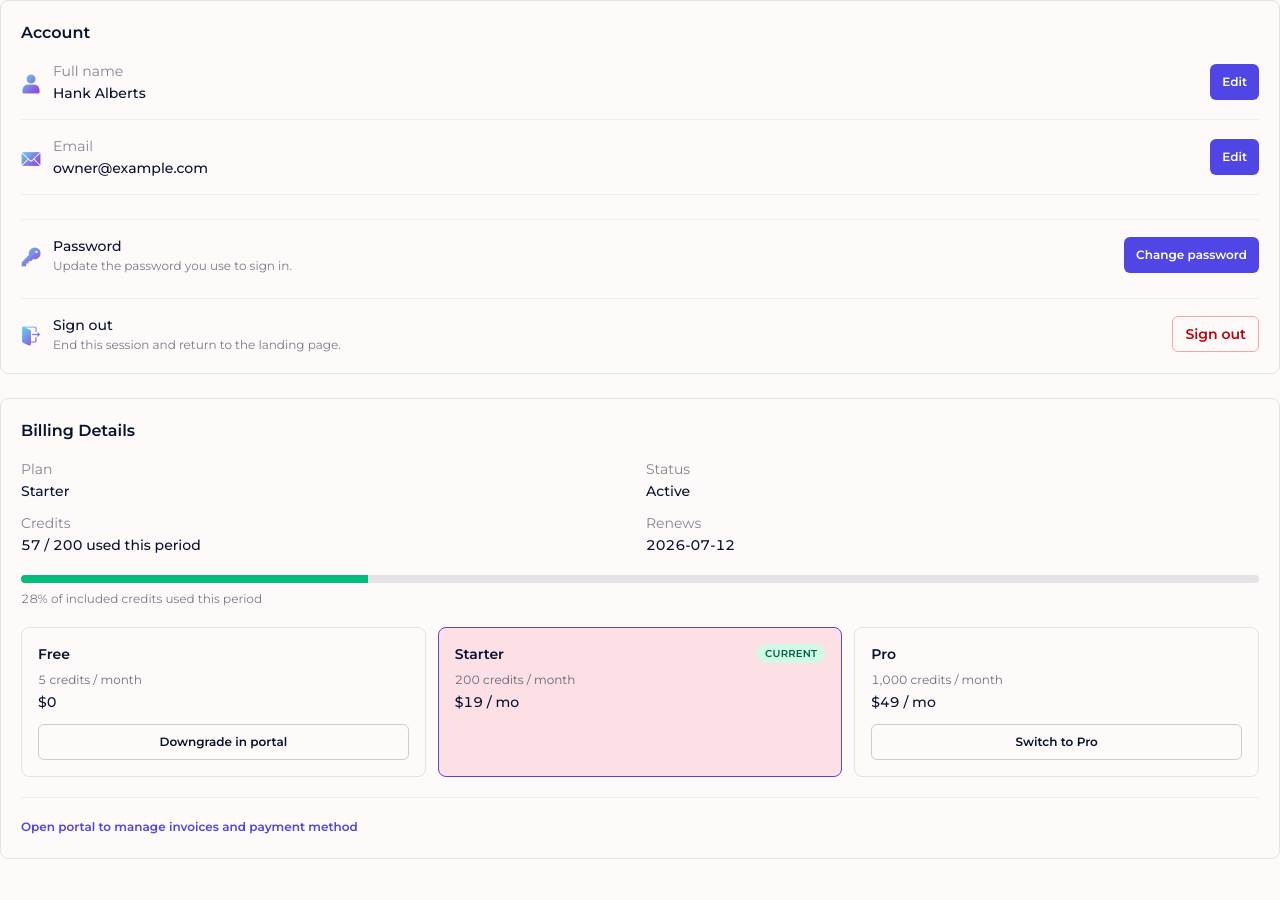
AccountForm — editable full name › reverts to the original value on Cancel
Click the button with aria-label "Edit full name" at (1235,82), box [1210,64,1259,100]
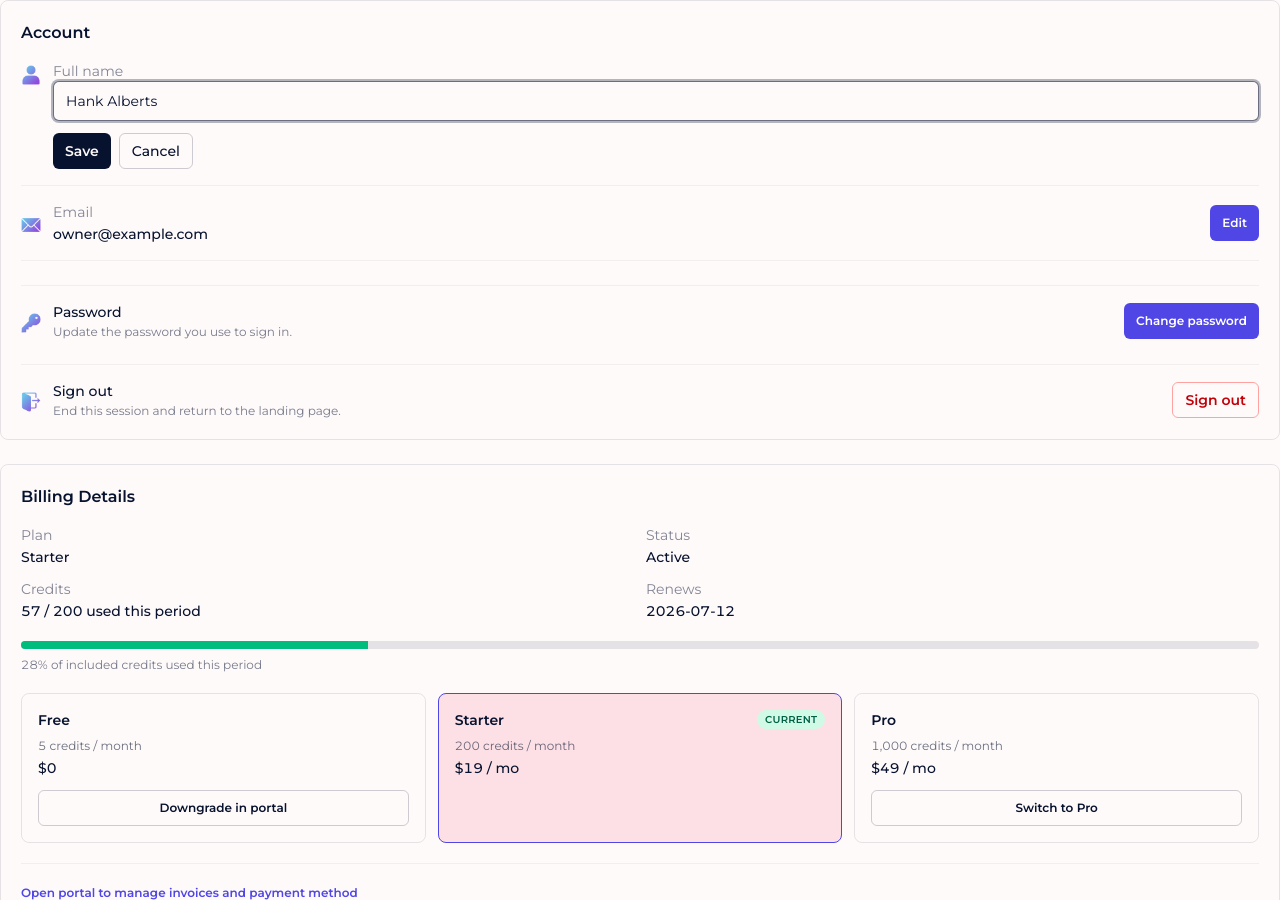
Replace the text in the field labelled "Full name" with "Drafty" at (656,101), box [53,81,1259,121]
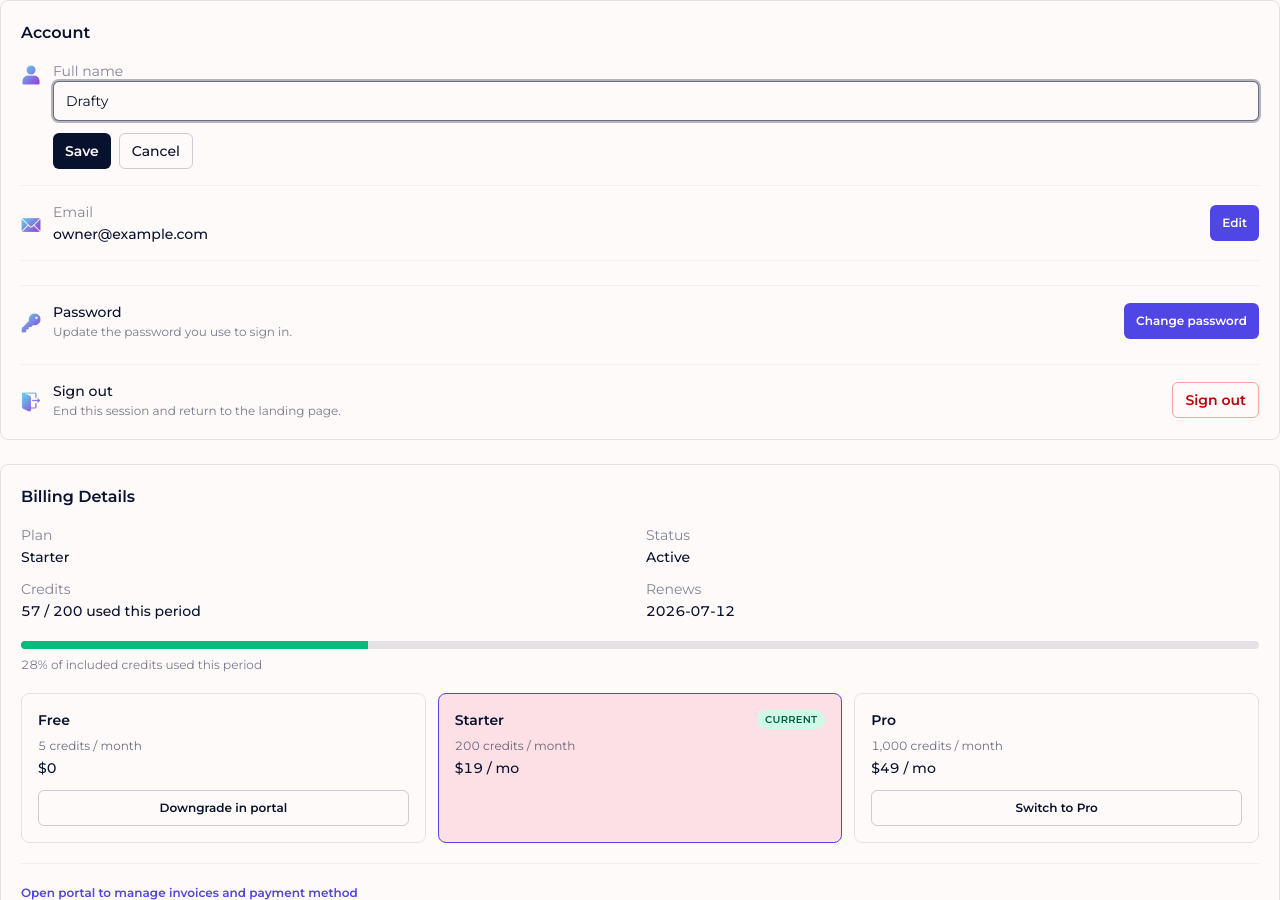
Click the button "Cancel" at (156,151), box [119,133,193,169]
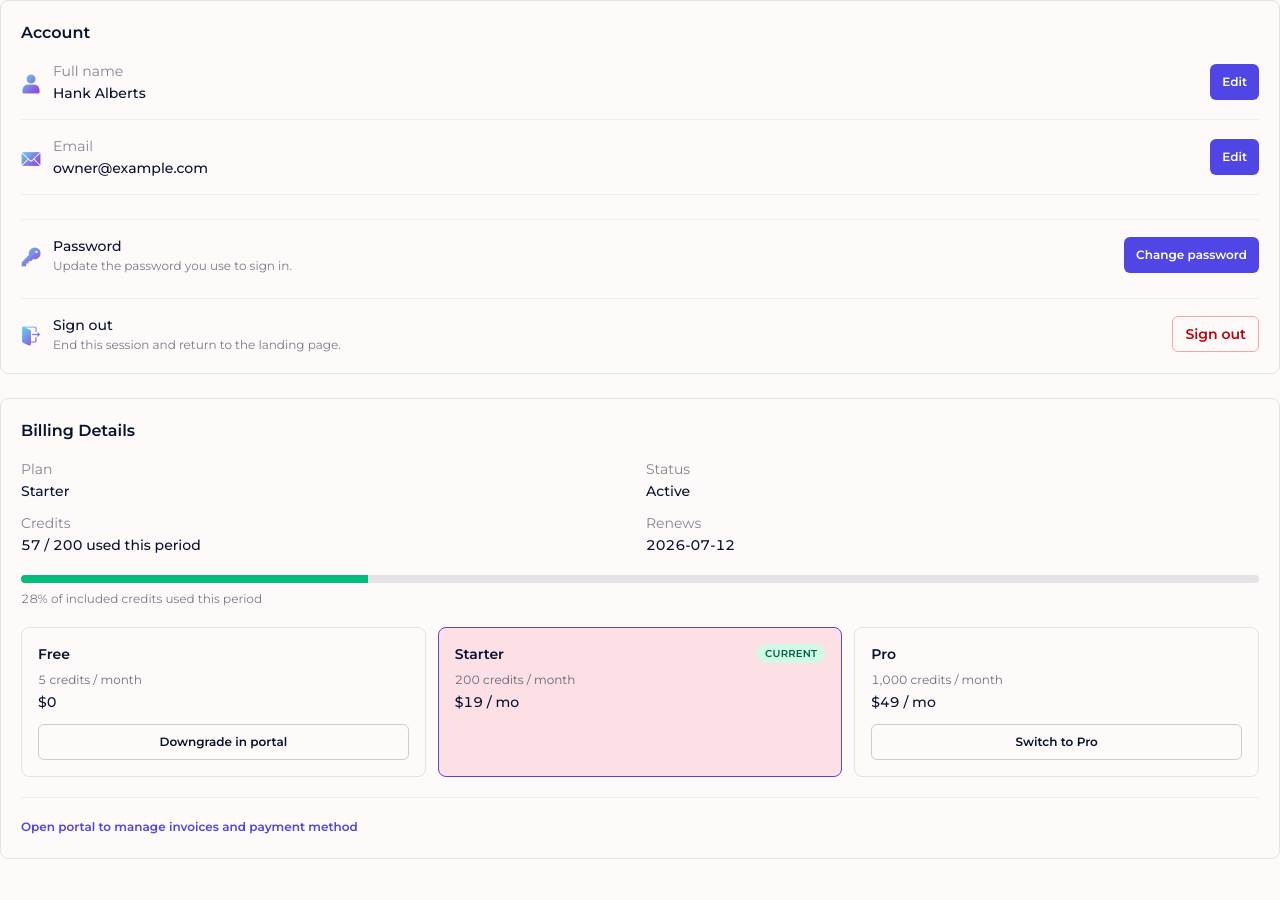
expect the text "Hank Alberts" is shown: met, box [53,84,146,102]
